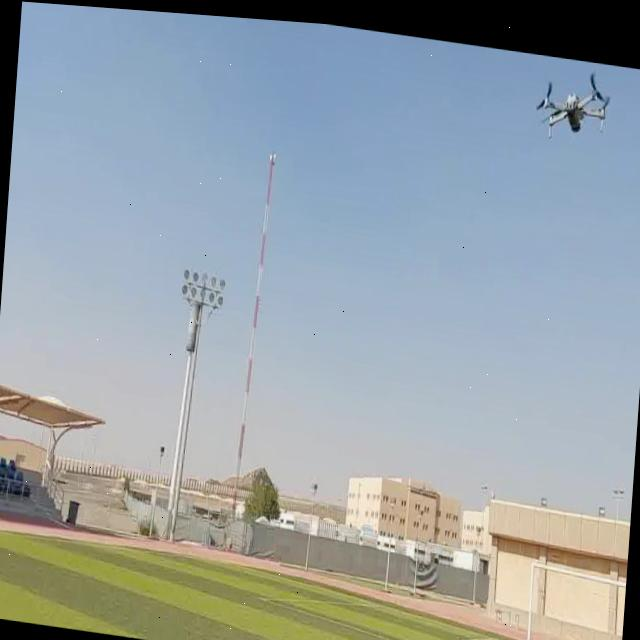drone: (522, 51, 616, 153)
